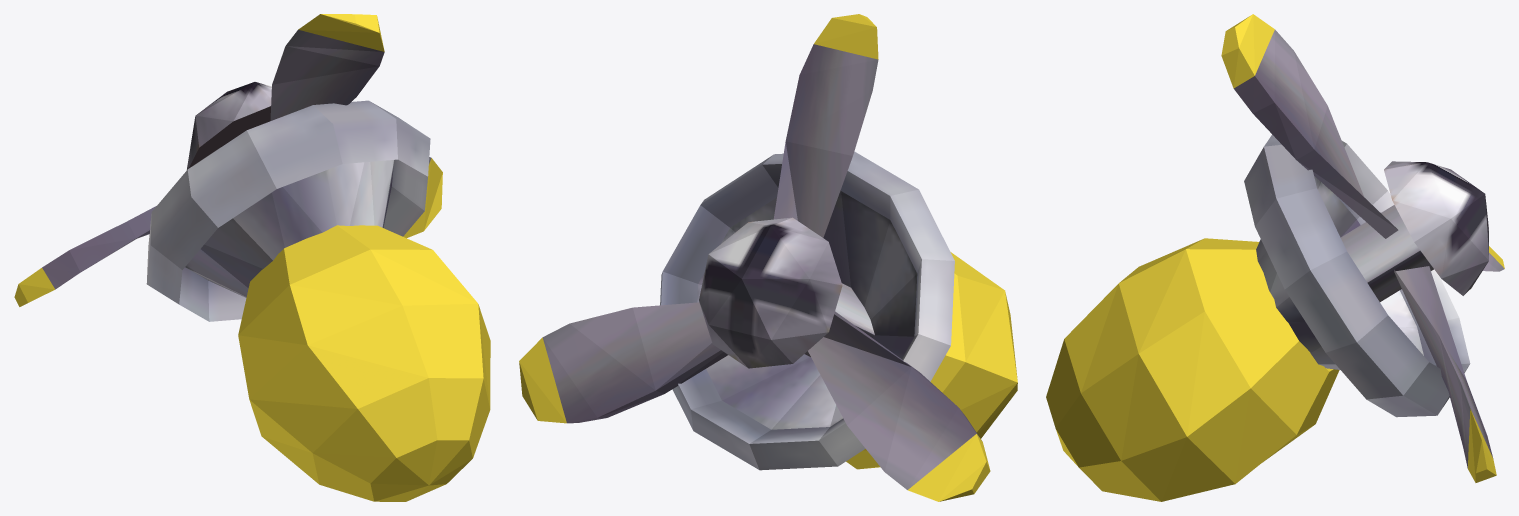
The model's file is back_nozzle_item.dae.
The picture shows the model from 3 angles, left to right: view 1: azimuth 30°, elevation 25°; view 2: azimuth 150°, elevation 25°; view 3: azimuth 270°, elevation 25°; orthographic projection. The views are drawn at different scales.
Visible parts, largest first — view 1: m0; view 2: m0; view 3: m0.
Boxes of the visible parts, <box> form: m0: <box>14,14,490,501</box>; m0: <box>519,14,1017,501</box>; m0: <box>1046,14,1504,501</box>.
Bounding box in the file's own units: 110 × 109 × 96.38.
1 material, 1 textured.
